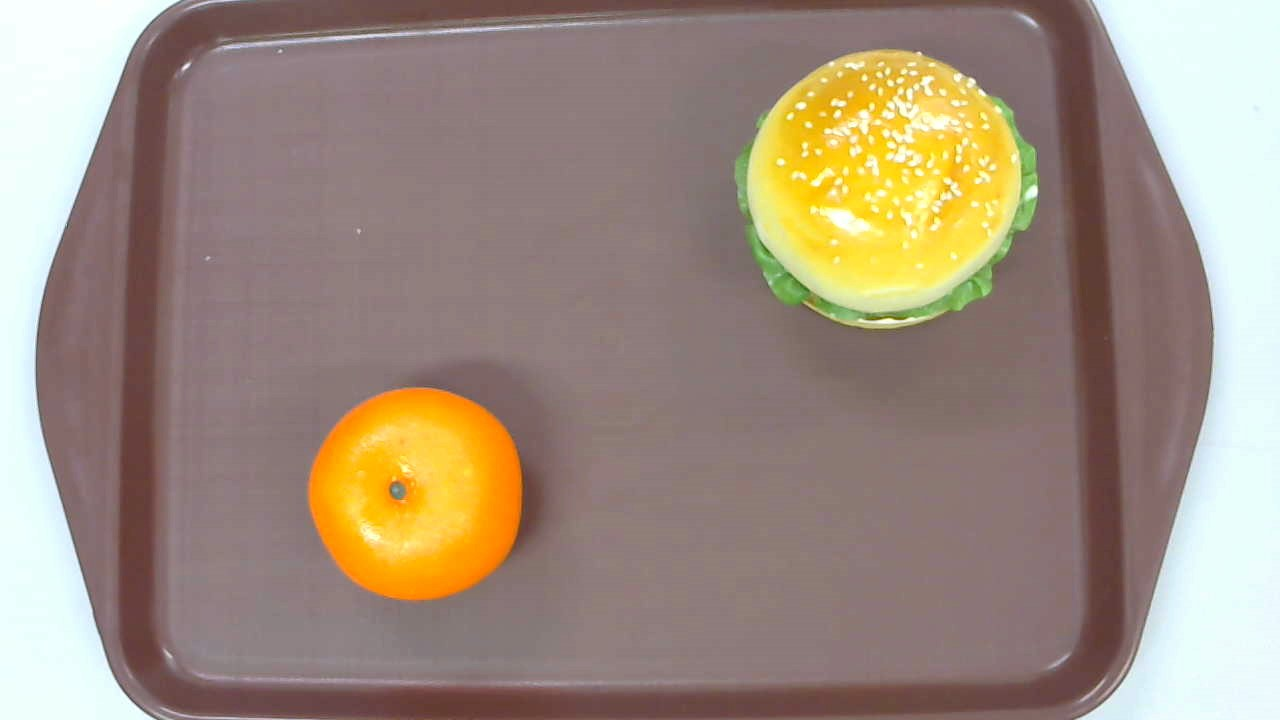hamburger: (734, 48, 1038, 328)
orange: (306, 385, 522, 603)
